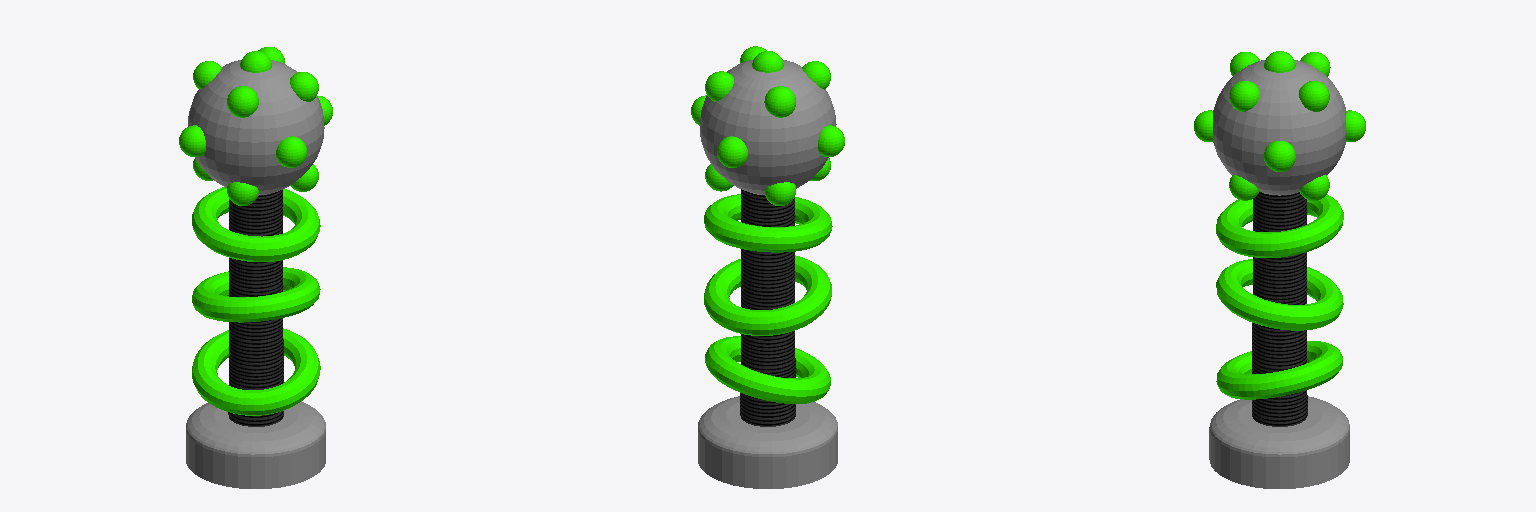
The picture shows the model from 3 angles: view 1: azimuth 30°, elevation 25°; view 2: azimuth 150°, elevation 25°; view 3: azimuth 270°, elevation 25°; orthographic projection.
Visible parts, largest first — view 1: Cylinder; view 2: Cylinder; view 3: Cylinder.
Part boxes in pixels (x1,y1,x2,y2): Cylinder: (179, 47, 332, 488); Cylinder: (691, 46, 844, 488); Cylinder: (1194, 51, 1365, 488).
Bounding box in the file's own units: 3.19 × 8.28 × 3.18.
Materials: 1 (1 with a texture image).